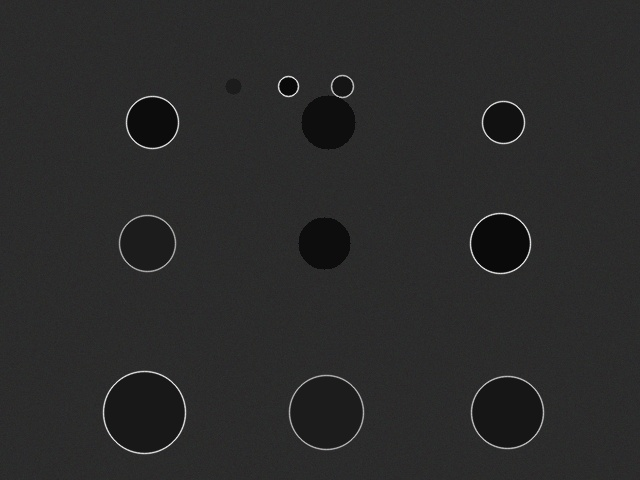hole: (103, 371, 185, 453), (289, 375, 363, 449), (471, 376, 543, 448), (470, 213, 530, 273), (119, 215, 175, 271), (301, 95, 355, 149), (126, 96, 178, 148), (298, 217, 350, 269), (482, 101, 524, 143), (331, 75, 353, 97), (278, 76, 298, 96), (225, 78, 241, 94)
